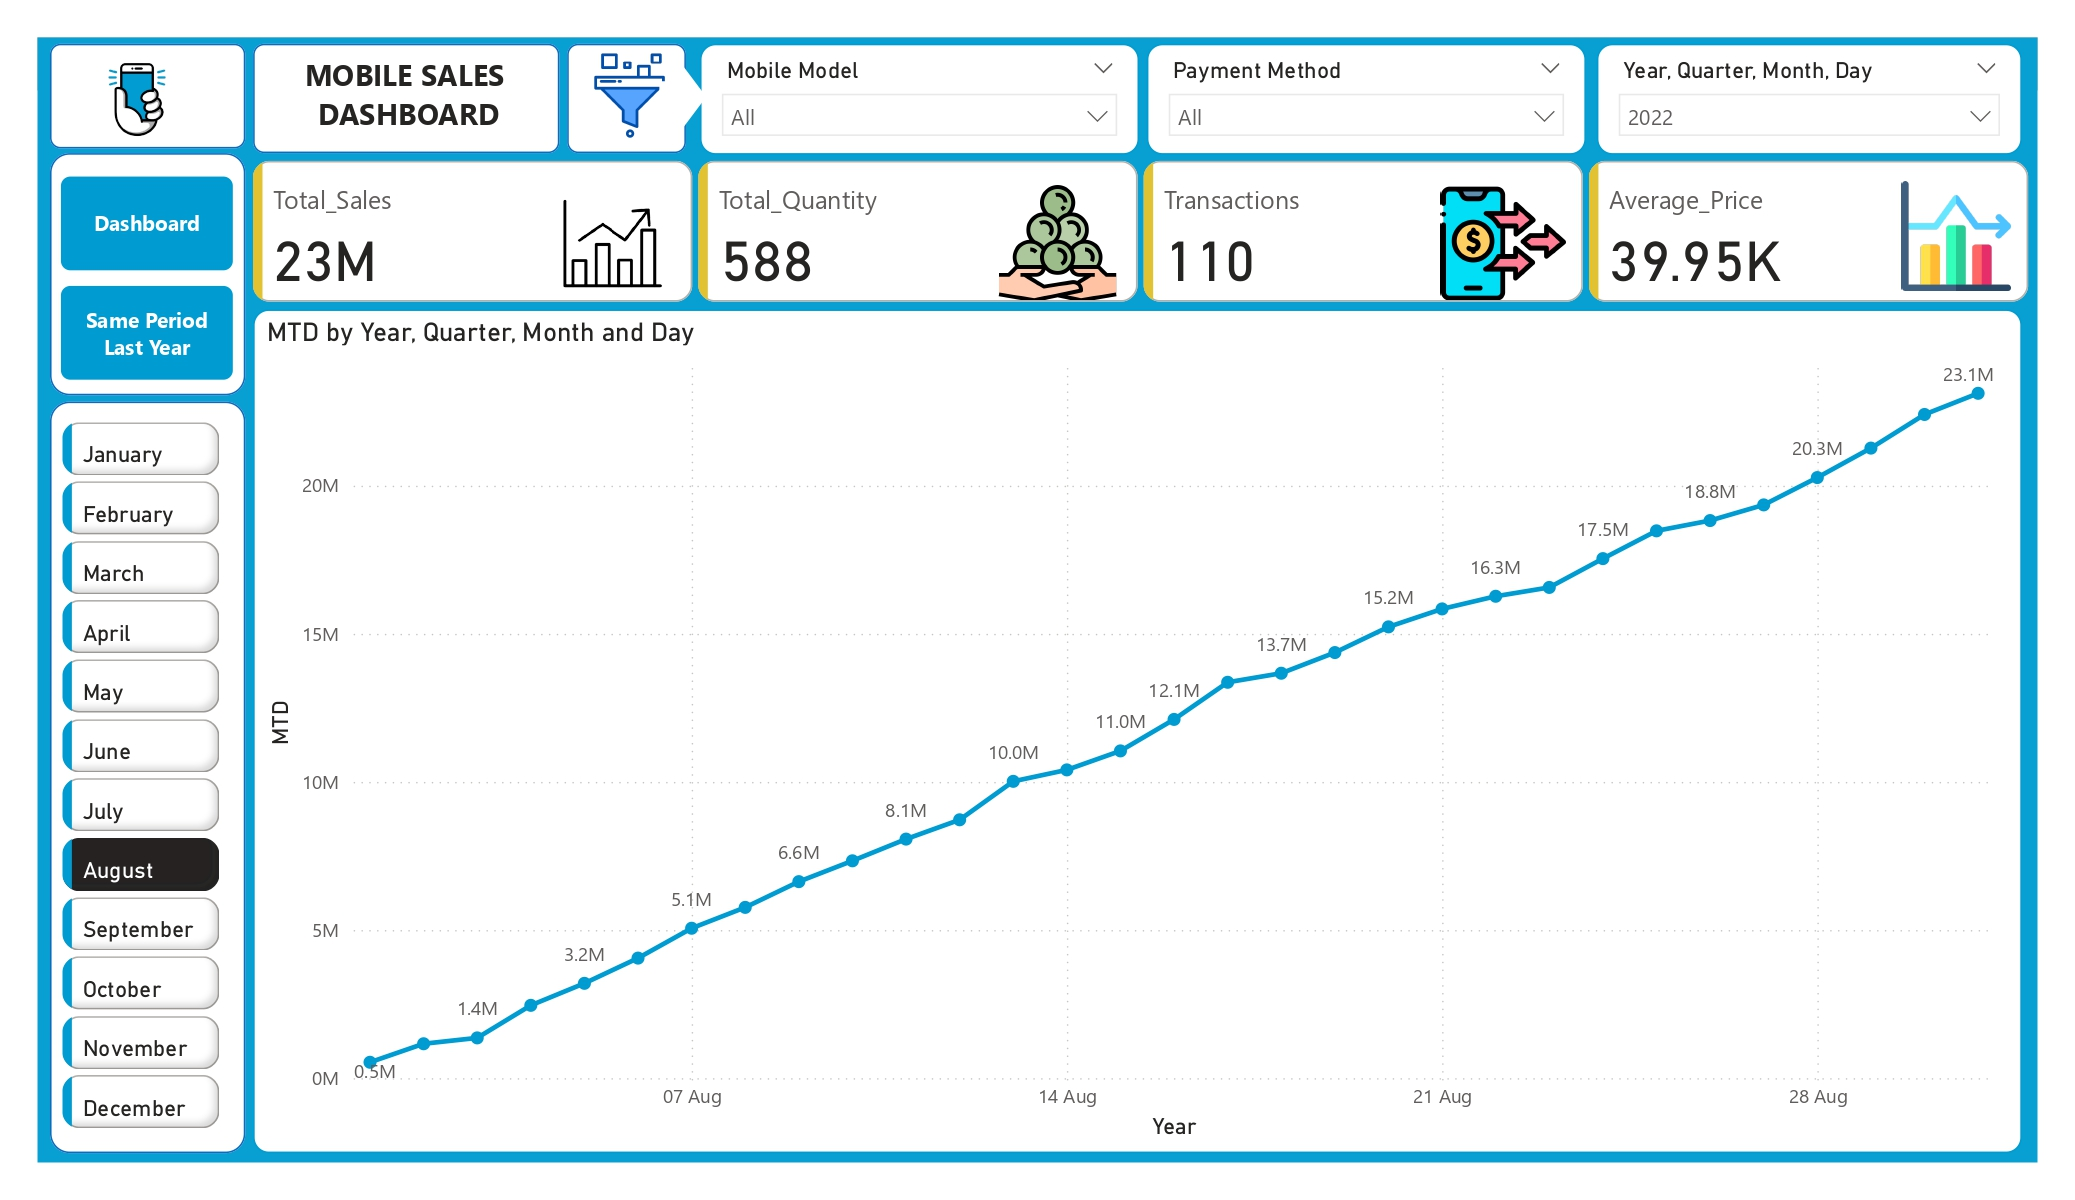

Layout of this report page (visuals, bound fields, positions):
{"tool":"powerbi","page":{"name":"MTD Report","canvas":[1280,720],"ordinal":1},"visuals":[{"type":"shape","box":[10,10,120,73.8],"z":0},{"type":"image","box":[17.5,12.5,105,71.2],"z":1000},{"type":"shape","box":[10,92.5,120,167.5],"z":2000},{"type":"cardVisual","fields":{"Data":["Sales_Data.Total_Sales","Sales_Data.Total_Quantity","Sales_Data.Transactions","Sales_Data.Average_Price"]},"box":[135,83.8,1145,103.8],"z":3000},{"type":"slicer","fields":{"Values":["Sales_Data.Mobile Model"]},"box":[422.5,7.5,281.2,76.2],"z":4000},{"type":"slicer","fields":{"Values":["Sales_Data.Payment Method"]},"box":[706.2,7.5,281.2,76.2],"z":5000},{"type":"slicer","fields":{"Values":["Custom_Calender.Date.Variation.Date Hierarchy.Year","Custom_Calender.Date.Variation.Date Hierarchy.Quarter","Custom_Calender.Date.Variation.Date Hierarchy.Month","Custom_Calender.Date.Variation.Date Hierarchy.Day"]},"box":[990,7.5,281.2,76.2],"z":6000},{"type":"shape","box":[330,7.5,86.2,76.2],"z":7000},{"type":"image","box":[330,10,78.8,73.8],"z":8000},{"type":"shape","box":[135,10,191.2,73.8],"z":9000},{"type":"textbox","box":[147.5,12.5,165,71.2],"z":10000},{"type":"lineChart","fields":{"Y":["Sales_Data.MTD"],"Category":["Custom_Calender.Date.Variation.Date Hierarchy.Year","Custom_Calender.Date.Variation.Date Hierarchy.Quarter","Custom_Calender.Date.Variation.Date Hierarchy.Month","Custom_Calender.Date.Variation.Date Hierarchy.Day"]},"box":[135,187.5,1136.2,522.5],"z":11000},{"type":"shape","box":[10,263.8,120,446.2],"z":12000},{"type":"advancedSlicerVisual","fields":{"Values":["Custom_Calender.Date.Variation.Date Hierarchy.Month"]},"box":[17.5,273.8,107.5,436.2],"z":13000},{"type":"pageNavigator","box":[17.5,101.2,105,150],"z":13001}]}

Visuals, with their boxes on the page's 1280x720 design canvas (x1, y1, x2, y2). These are canvas units, not pixel positions in the 2075x1200 screenshot, which may show the page scaled, cropped or inside an application window:
shape: detection(10, 10, 130, 84)
image: detection(18, 12, 122, 84)
shape: detection(10, 92, 130, 260)
cardVisual - Sales_Data.Total_Sales x Sales_Data.Total_Quantity: detection(135, 84, 1280, 188)
slicer - Sales_Data.Mobile Model: detection(422, 8, 704, 84)
slicer - Sales_Data.Payment Method: detection(706, 8, 987, 84)
slicer - Custom_Calender.Date.Variation.Date Hierarchy.Year x Custom_Calender.Date.Variation.Date Hierarchy.Quarter: detection(990, 8, 1271, 84)
shape: detection(330, 8, 416, 84)
image: detection(330, 10, 409, 84)
shape: detection(135, 10, 326, 84)
textbox: detection(148, 12, 312, 84)
lineChart - Sales_Data.MTD x Custom_Calender.Date.Variation.Date Hierarchy.Year: detection(135, 188, 1271, 710)
shape: detection(10, 264, 130, 710)
advancedSlicerVisual - Custom_Calender.Date.Variation.Date Hierarchy.Month: detection(18, 274, 125, 710)
pageNavigator: detection(18, 101, 122, 251)
